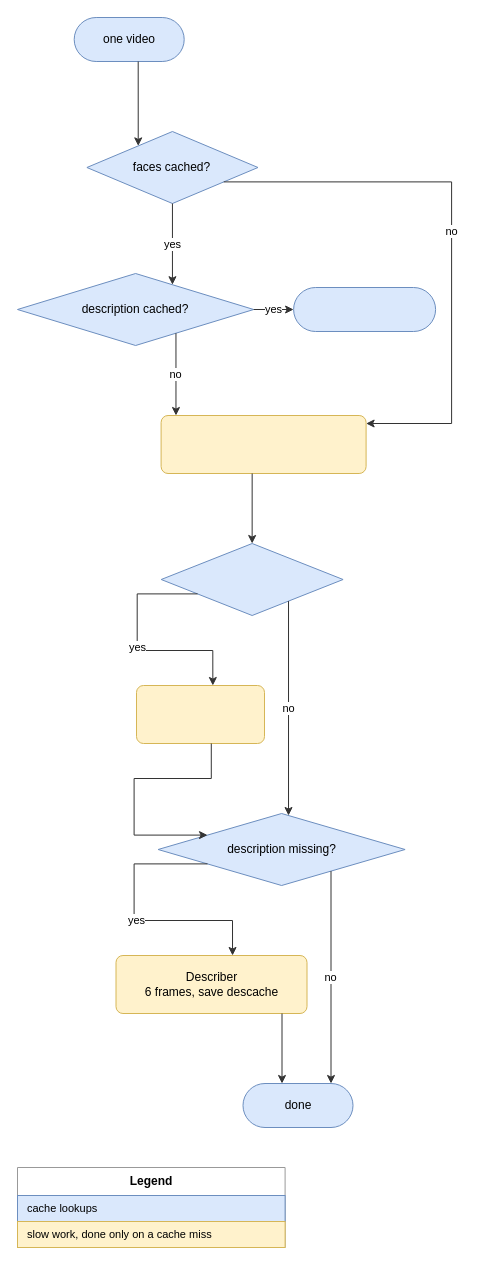
Image size: 478x1265. Some labels were removed from this diagram. Here are the shapes that lost their labels. From the top down, the centre of each, then its label:
At pixel 364 309: "use the caches".
At pixel 263 444: "video_frames download once, cut frames".
At pixel 251 579: "faces missing?".
At pixel 200 714: "engine.faces save facecache".
